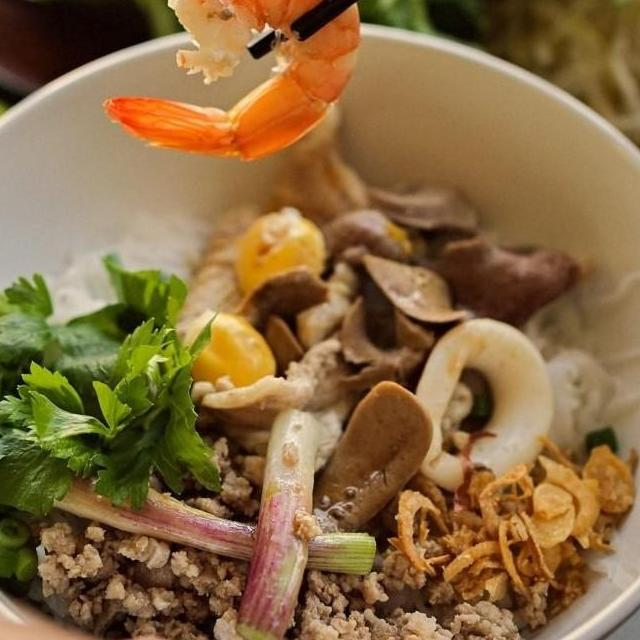muc: (397, 310, 561, 503)
thit bam: (16, 427, 556, 640)
tom: (98, 0, 368, 168)
